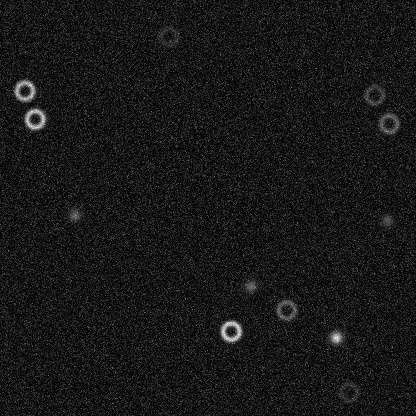Ring: (377, 111, 401, 135), (22, 106, 46, 130), (362, 82, 386, 106), (336, 380, 360, 404), (274, 297, 298, 321), (218, 319, 242, 343), (156, 24, 180, 48), (12, 78, 36, 102)
Spot: (242, 278, 258, 294), (327, 329, 343, 345), (66, 206, 82, 222), (379, 212, 395, 228)
